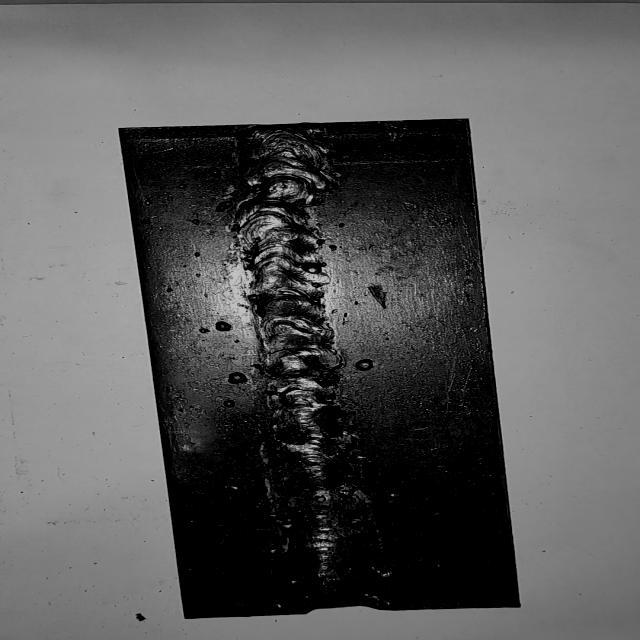Defect: (331, 443, 408, 508), (213, 366, 280, 424), (353, 555, 412, 610), (203, 310, 273, 342), (322, 348, 380, 383)
Welding Line: (230, 128, 375, 601)
Workpiece: (110, 112, 535, 620)
